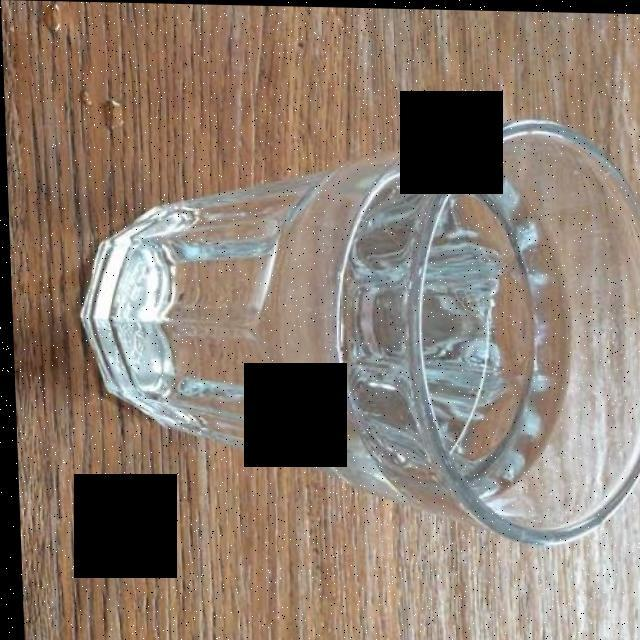water: (419, 170, 541, 466)
